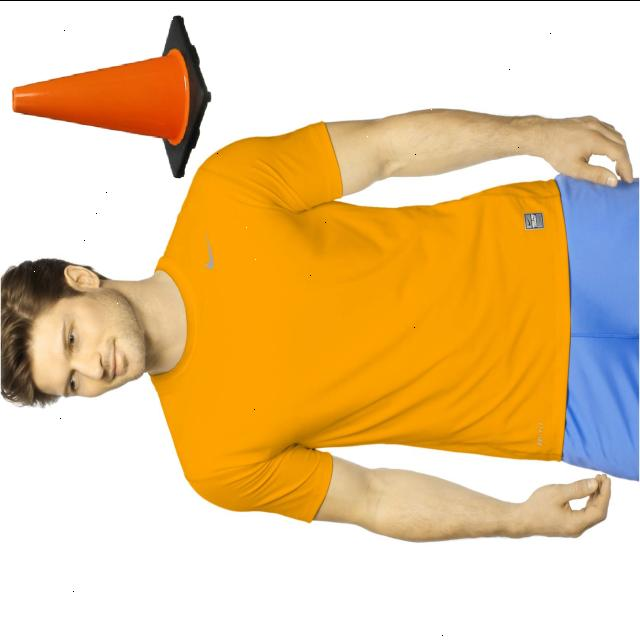traffic cone: (6, 11, 219, 187)
